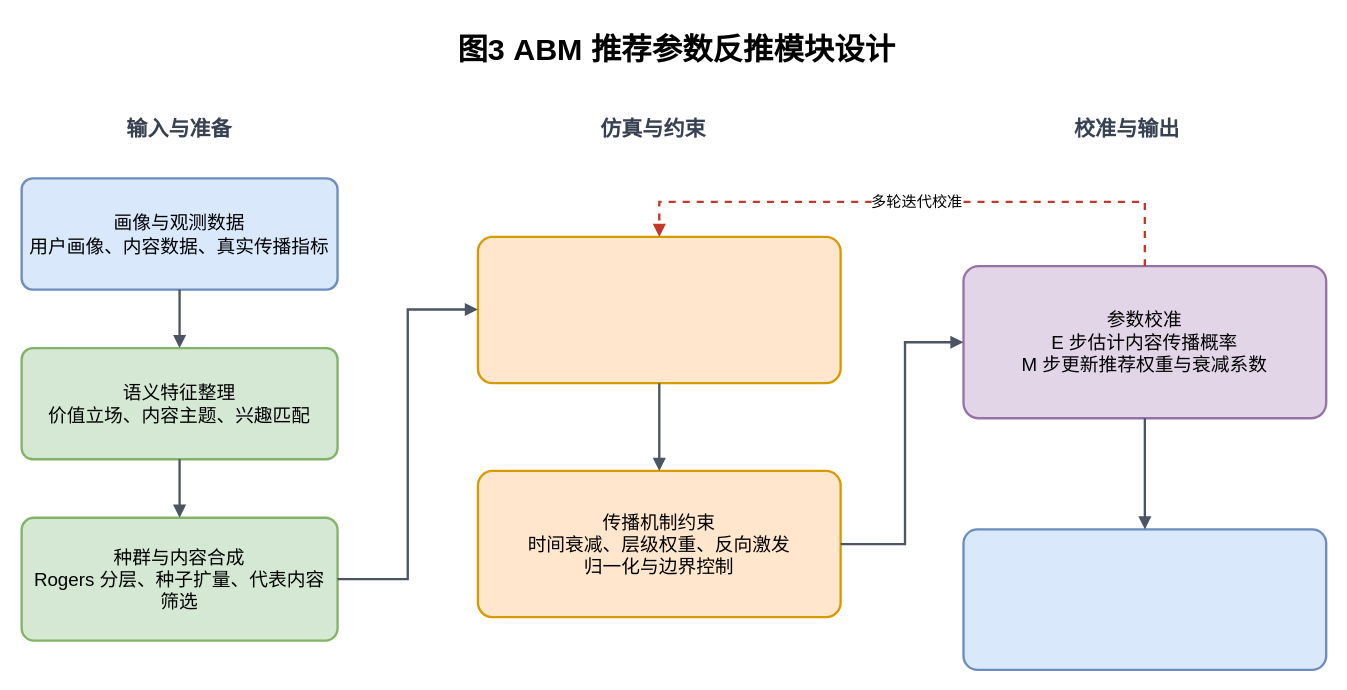
This 1347x690 diagram has some shape labels left out. Each missing label, with the box of its shape:
向量化仿真引擎 批量计算用户-内容匹配分数 生成候选传播结果: (476, 235, 841, 384)
校准配置输出 推荐权重、衰减系数、诊断指标 写入 calibration_profile.yaml: (962, 528, 1327, 670)
